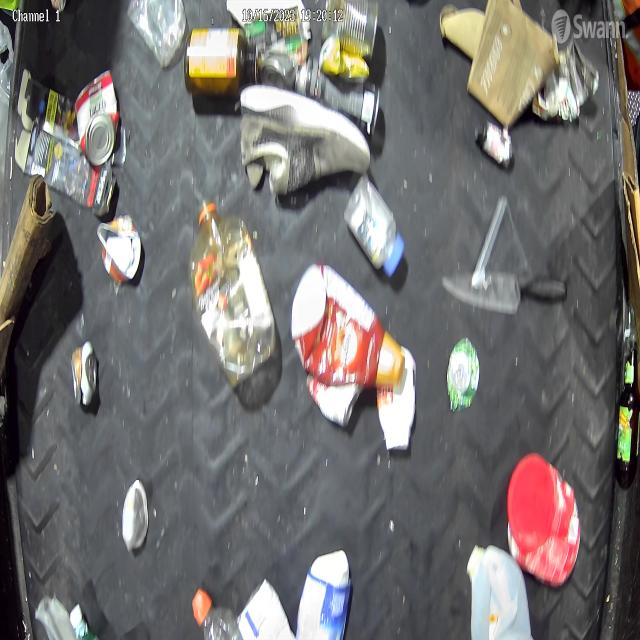can: (295, 55, 381, 139), (74, 66, 120, 169), (320, 0, 380, 62), (94, 214, 144, 287), (305, 372, 364, 431), (446, 335, 481, 413), (70, 341, 99, 410), (260, 44, 298, 92)
milk_jug: (465, 539, 535, 640)
non_white_jug: (290, 260, 406, 392), (506, 449, 581, 592)
plastic_bottle: (188, 194, 278, 391)
